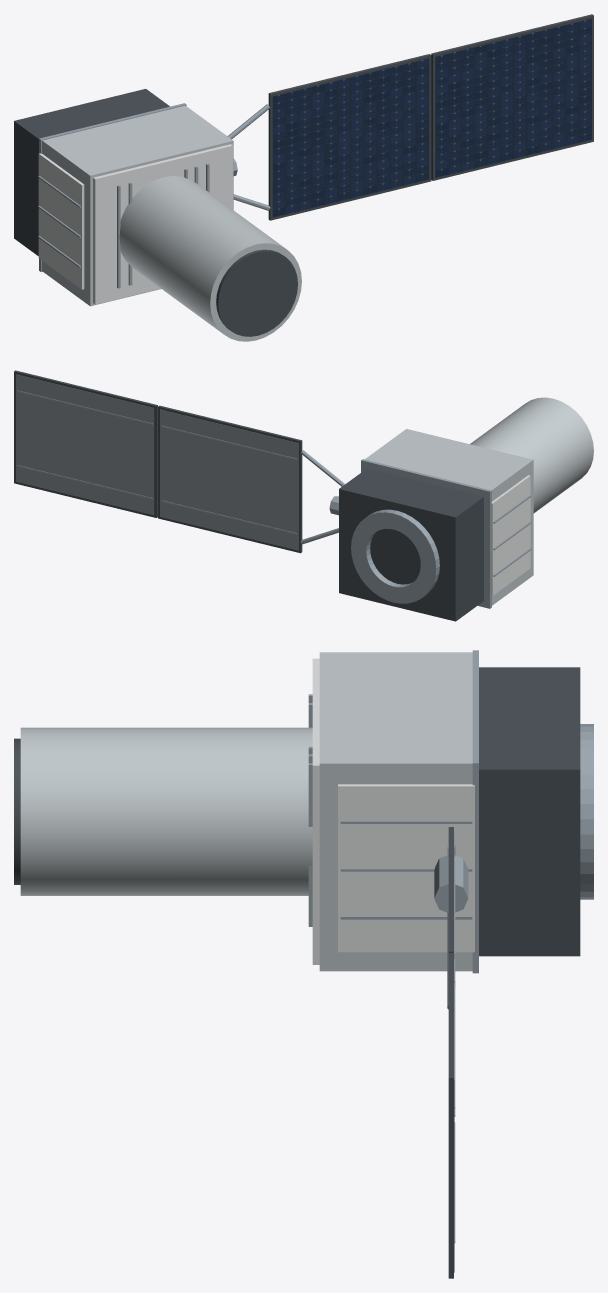
Rendered from ref-podsat-44065.glb.
3 views of the same model, one above another, from view 1: azimuth 30°, elevation 25°; view 2: azimuth 150°, elevation 25°; view 3: azimuth 270°, elevation 25° (orthographic). The views are drawn at different scales.
Visible parts, largest first — view 1: Solar cell panel (×2), Optical instrument housing, Payload module, Earth-facing deck, Service module, Telescope aperture, Radiator face, Solar panel frame (×2), Module interface; view 2: Rear array substrate (×2), Service module, Optical instrument housing, Payload module, Launch adapter ring, Radiator face, Solar panel frame (×2), Module interface; view 3: Optical instrument housing, Service module, Payload module, Radiator face, Launch adapter ring, Earth-facing deck, Solar panel frame, Module interface, Array drive, Telescope aperture.
Part boxes in pixels (left/top/right/bottom): Solar cell panel (×2): left=272, top=18, right=591, bottom=217; Optical instrument housing: left=119, top=176, right=301, bottom=341; Payload module: left=42, top=105, right=233, bottom=306; Earth-facing deck: left=93, top=144, right=232, bottom=304; Service module: left=14, top=89, right=169, bottom=255; Telescope aperture: left=216, top=249, right=297, bottom=336; Radiator face: left=38, top=153, right=84, bottom=289; Solar panel frame (×2): left=268, top=14, right=593, bottom=220; Module interface: left=39, top=103, right=186, bottom=271; Rear array substrate (×2): left=16, top=374, right=298, bottom=550; Service module: left=339, top=468, right=483, bottom=621; Optical instrument housing: left=470, top=397, right=593, bottom=513; Payload module: left=365, top=429, right=533, bottom=605; Launch adapter ring: left=351, top=509, right=439, bottom=603; Radiator face: left=491, top=475, right=530, bottom=595; Solar panel frame (×2): left=14, top=370, right=302, bottom=553; Module interface: left=361, top=459, right=491, bottom=608; Optical instrument housing: left=20, top=727, right=312, bottom=895; Service module: left=479, top=667, right=580, bottom=956; Payload module: left=319, top=652, right=472, bottom=971; Radiator face: left=338, top=784, right=474, bottom=952; Launch adapter ring: left=580, top=724, right=593, bottom=899; Earth-facing deck: left=312, top=658, right=319, bottom=964; Solar panel frame: left=448, top=953, right=453, bottom=1278; Module interface: left=472, top=650, right=478, bottom=973; Array drive: left=434, top=855, right=468, bottom=912; Telescope aperture: left=14, top=738, right=20, bottom=884.
Size of the model in its own units: 1.91 by 0.4402 by 1.1.
6 materials, 1 textured.
